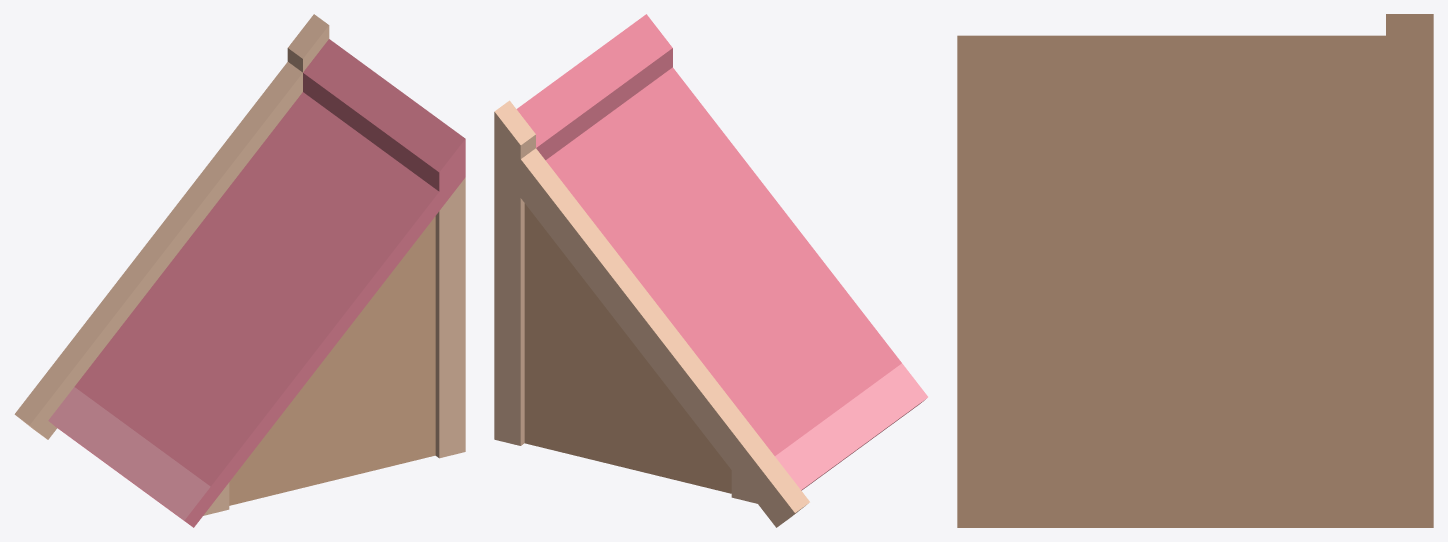
3 renders of one model, left to right at view 1: azimuth 30°, elevation 25°; view 2: azimuth 150°, elevation 25°; view 3: azimuth 270°, elevation 25°, orthographic. The views are drawn at different scales.
Visible parts, largest first — view 1: roofHighLeft; view 2: roofHighLeft; view 3: roofHighLeft.
Part boxes in pixels (x1,y1,x2,y2): roofHighLeft: [14, 14, 465, 527]; roofHighLeft: [494, 14, 927, 527]; roofHighLeft: [957, 14, 1433, 527].
Bounding box in the file's own units: 1.14 × 1.26 × 1.
